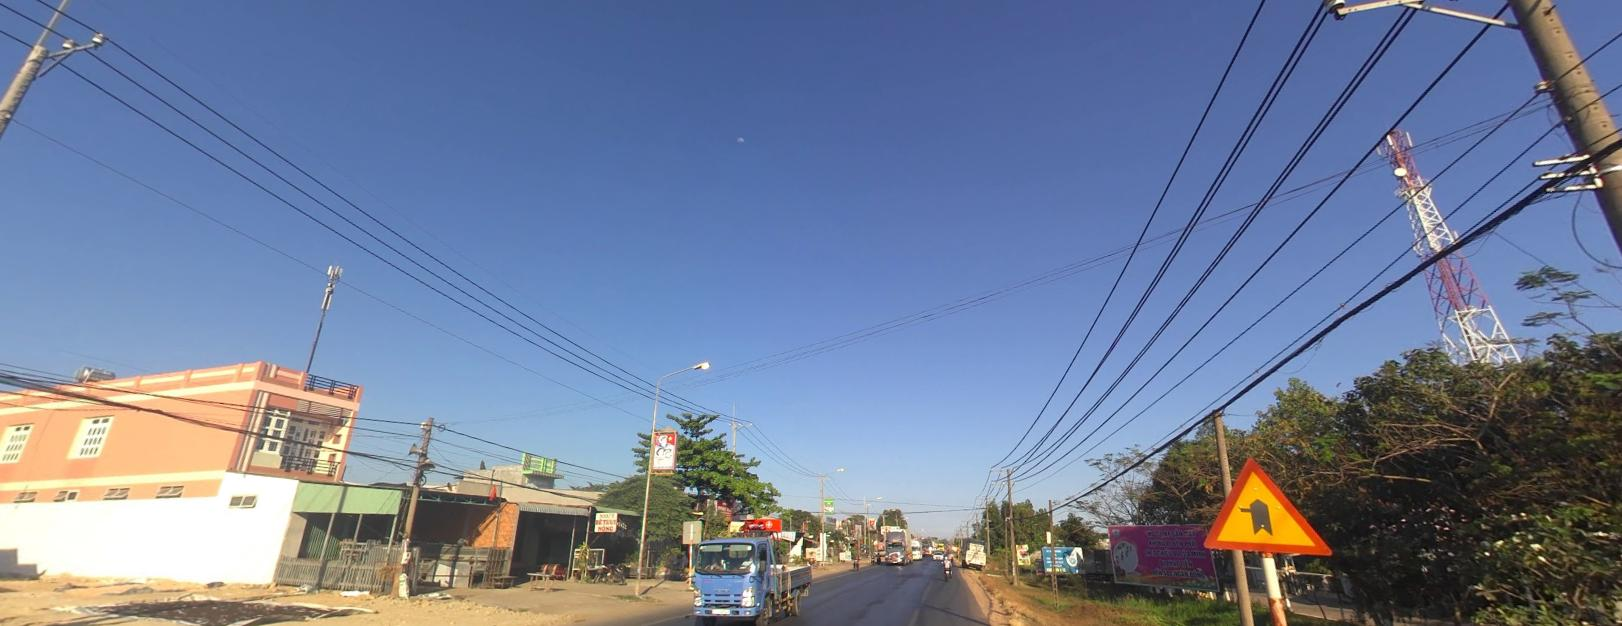Nguy hiem: (1196, 447, 1339, 566)
